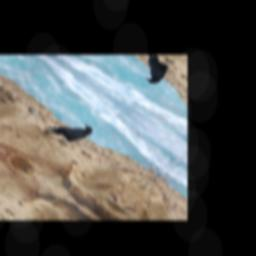Crow: (40, 109, 97, 151)
